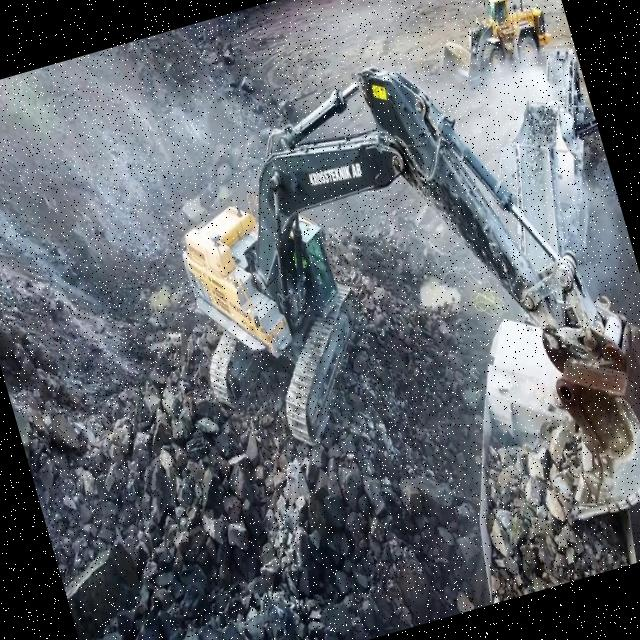Excavator: (134, 9, 640, 619)
Loader: (419, 0, 558, 98)
